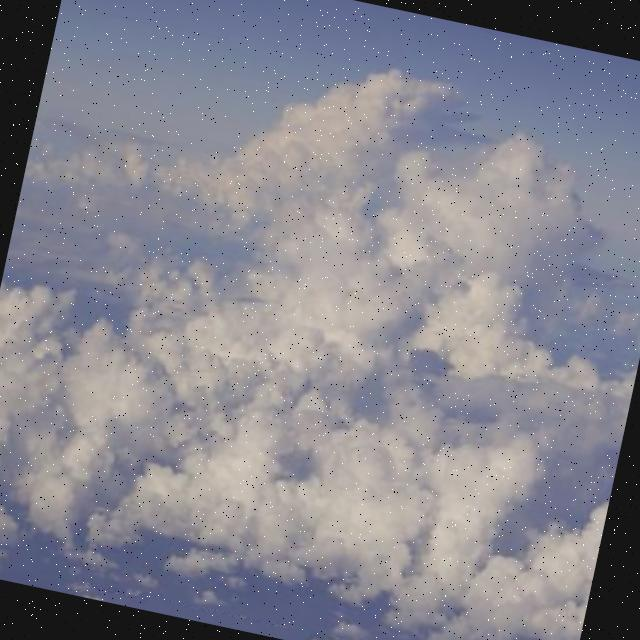Cu: (1, 24, 640, 640)
